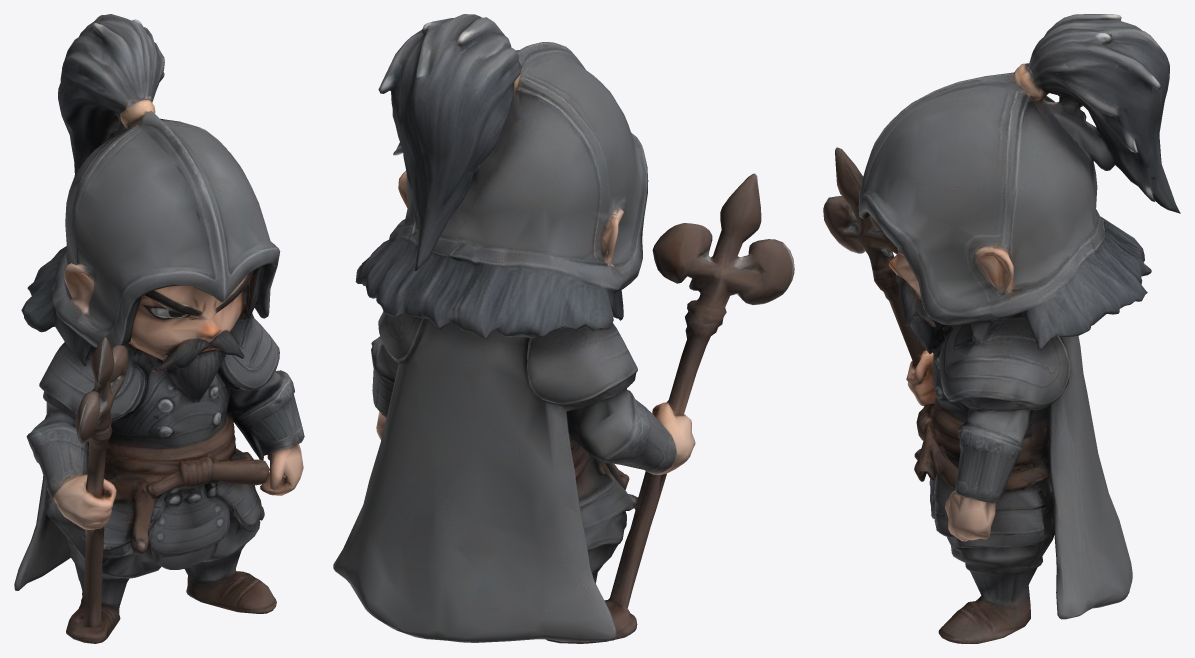
Rendered from halberdier.glb.
3 renders of one model, left to right at view 1: azimuth 30°, elevation 25°; view 2: azimuth 150°, elevation 25°; view 3: azimuth 270°, elevation 25°, orthographic. The views are drawn at different scales.
Bounding box in the file's own units: 1.11 × 2 × 1.12.
1 material, 1 textured.
